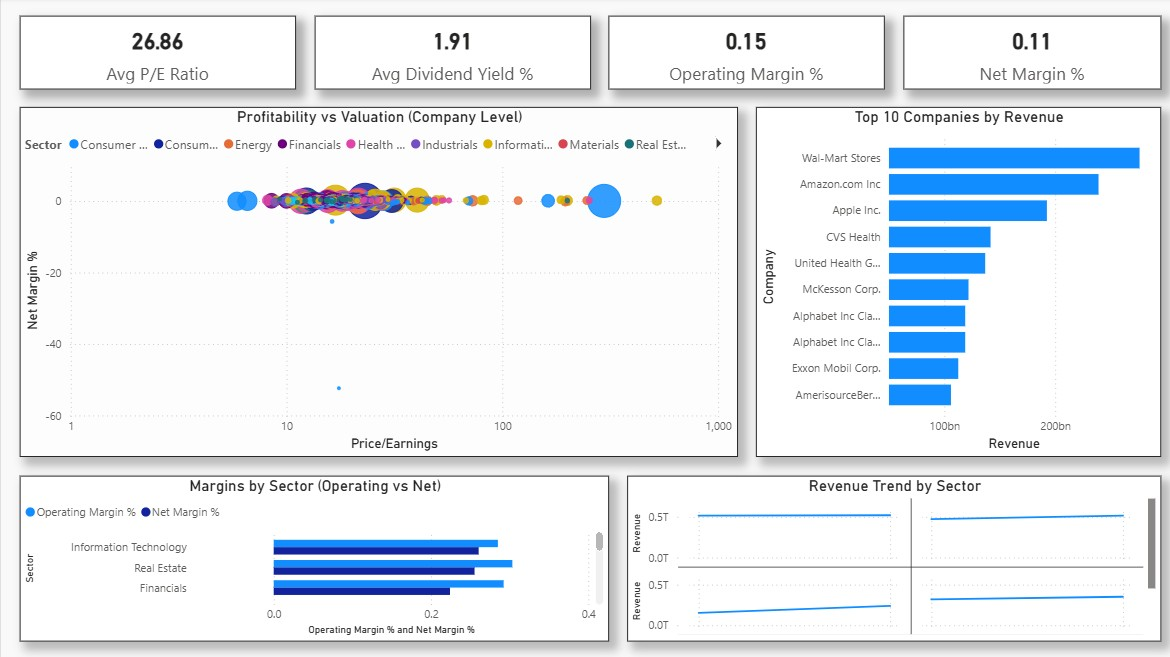

What the dashboard file says about the page in this screenshot:
{"tool":"powerbi","page":{"name":"Sector Benchmarking Dashboard","canvas":[1280,720],"ordinal":1},"visuals":[{"type":"card","fields":{"Values":["MeasureTable.Avg P/E"]},"box":[20,20,300,80],"z":0},{"type":"card","fields":{"Values":["MeasureTable.Avg Dividend Yield %"]},"box":[340.3,20.6,300,80],"z":1000},{"type":"card","fields":{"Values":["MeasureTable.Operating Margin %"]},"box":[660,20.6,300,80],"z":2000},{"type":"card","fields":{"Values":["MeasureTable.Net Margin %"]},"box":[980,20.6,280,80],"z":3000},{"type":"scatterChart","title":"Profitability vs Valuation (Company Level)","fields":{"X":["DimCompany.Price/Earnings"],"Y":["MeasureTable.Net Margin %"],"Size":["MeasureTable.Revenue"],"Series":["DimCompany.Sector"]},"box":[20.6,120,780,380],"z":4000},{"type":"clusteredBarChart","title":"Top 10 Companies by Revenue","fields":{"Category":["DimCompany.Company"],"Y":["MeasureTable.Revenue"]},"box":[820,120,440,380],"z":5000},{"type":"clusteredBarChart","title":"Margins by Sector (Operating vs Net)","fields":{"Category":["DimCompany.Sector"],"Y":["MeasureTable.Operating Margin %","MeasureTable.Net Margin %"]},"box":[20,520,640,180],"z":6000},{"type":"lineChart","title":"Revenue Trend by Sector","fields":{"Category":["DimDate.Year"],"Y":["MeasureTable.Revenue"],"Rows":["DimCompany.Sector"]},"box":[680,520,580,180],"z":7000}]}

Visuals, with their boxes in screenshot pixels (x1, y1, x2, y2), scaled from the page's 1280x720 canvas onto the 1170x657 screenshot:
card - MeasureTable.Avg P/E: {"x1": 18, "y1": 18, "x2": 292, "y2": 91}
card - MeasureTable.Avg Dividend Yield %: {"x1": 311, "y1": 19, "x2": 585, "y2": 92}
card - MeasureTable.Operating Margin %: {"x1": 603, "y1": 19, "x2": 878, "y2": 92}
card - MeasureTable.Net Margin %: {"x1": 896, "y1": 19, "x2": 1152, "y2": 92}
"Profitability vs Valuation (Company Level)" scatterChart: {"x1": 19, "y1": 110, "x2": 732, "y2": 456}
"Top 10 Companies by Revenue" clusteredBarChart: {"x1": 750, "y1": 110, "x2": 1152, "y2": 456}
"Margins by Sector (Operating vs Net)" clusteredBarChart: {"x1": 18, "y1": 474, "x2": 603, "y2": 639}
"Revenue Trend by Sector" lineChart: {"x1": 622, "y1": 474, "x2": 1152, "y2": 639}
